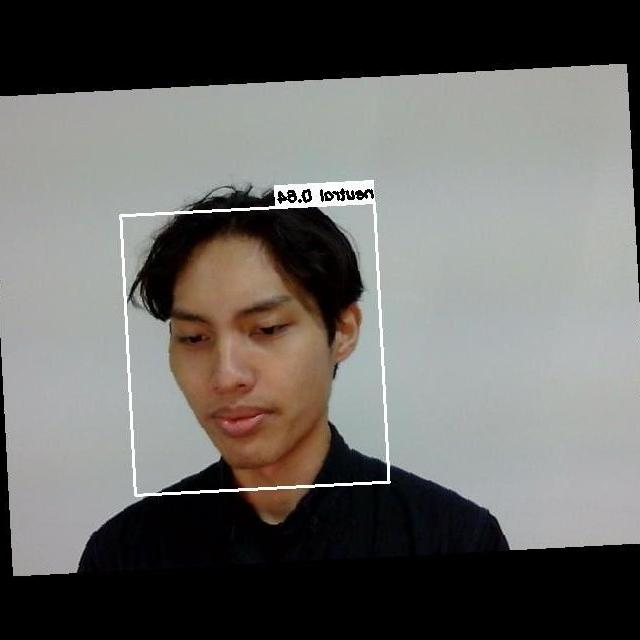Fear: (152, 281, 352, 456)
